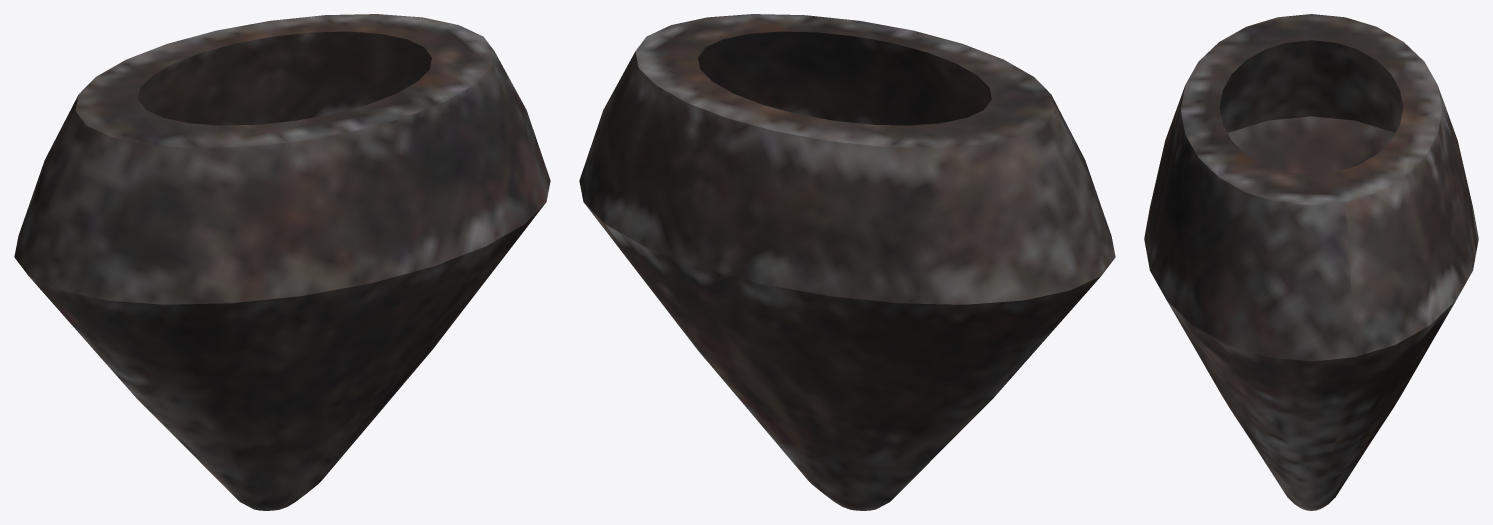
File: wm_dol_goldur_1h_sword_a02_pommel.fbx
3 views of the same model, side by side, from view 1: azimuth 30°, elevation 25°; view 2: azimuth 150°, elevation 25°; view 3: azimuth 270°, elevation 25° (orthographic). The views are drawn at different scales.
Visible parts, largest first — view 1: wm_dol_goldur_1h_sword_a02_pommel; view 2: wm_dol_goldur_1h_sword_a02_pommel; view 3: wm_dol_goldur_1h_sword_a02_pommel.
Part boxes in pixels (box(x1,y1,x2,y2)): wm_dol_goldur_1h_sword_a02_pommel: box(14, 14, 550, 510); wm_dol_goldur_1h_sword_a02_pommel: box(579, 14, 1115, 510); wm_dol_goldur_1h_sword_a02_pommel: box(1144, 14, 1478, 510).
Size of the model in its own units: 0.0655 by 0.0394 by 0.0526.
1 material, 1 textured.
